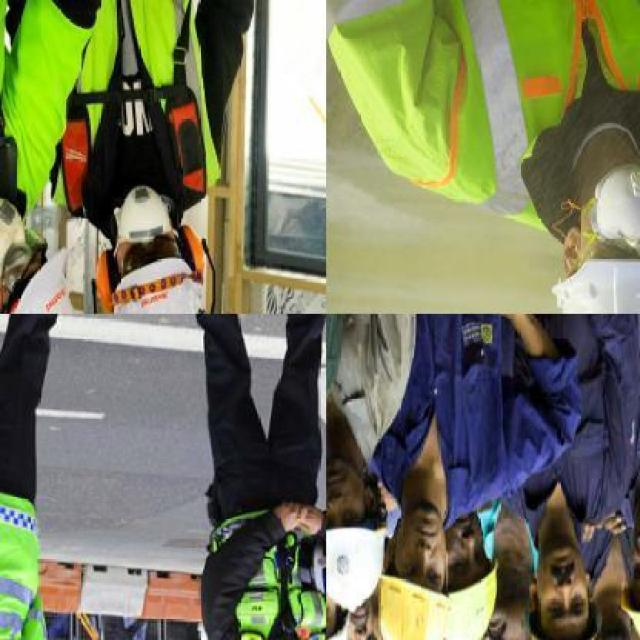helmet: (75, 245, 234, 313), (364, 570, 460, 640)
